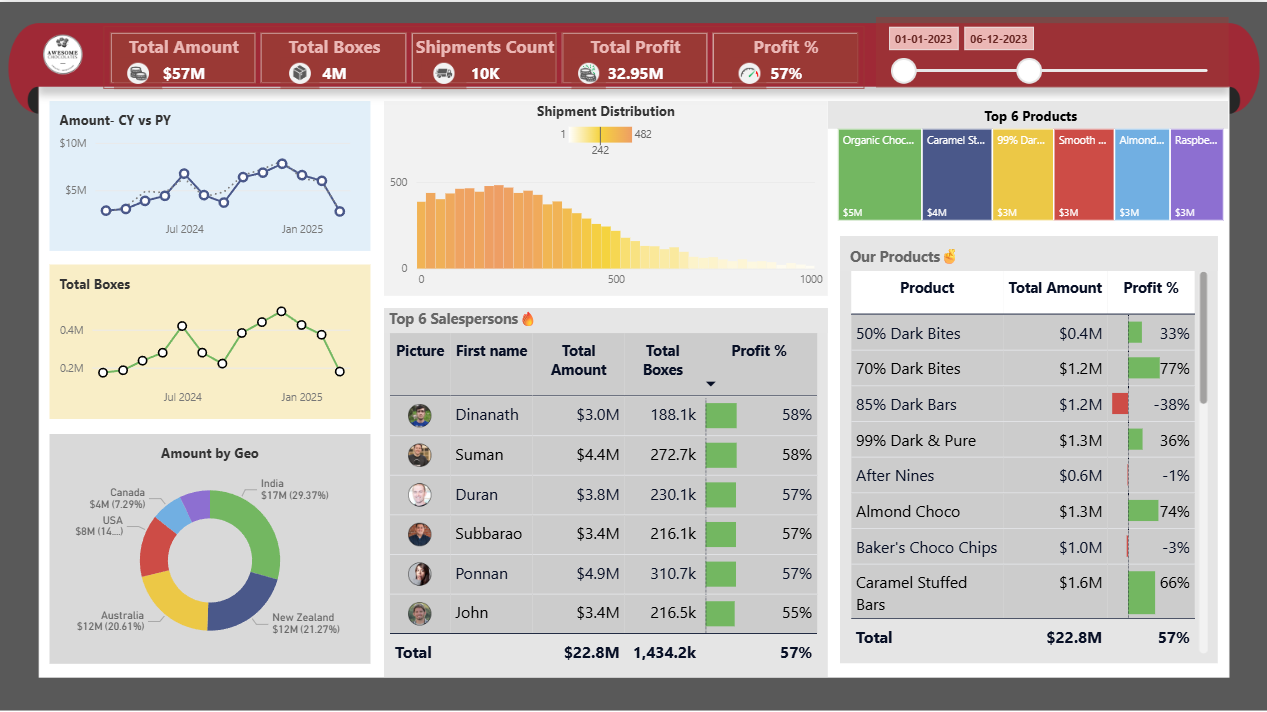

What the dashboard file says about the page in this screenshot:
{"tool":"powerbi","page":{"name":"Page 8","canvas":[1280,720],"ordinal":7},"visuals":[{"type":"lineChart","title":"Amount- CY vs PY","fields":{"Y":["shipments.Total Amount","shipments.Total Amount(last year)"],"Category":["calendar.Start of Month"]},"box":[50,99.9,324,151.4],"z":0},{"type":"lineChart","title":"Total Boxes","fields":{"Category":["calendar.Start of Month"],"Y":["shipments.Total Boxes"]},"box":[50,265,324,156],"z":1000},{"type":"donutChart","title":"Amount by Geo","fields":{"Category":["locations.Geo"],"Y":["shipments.Total Amount"]},"box":[50,436.1,324,231.7],"z":2000},{"type":"clusteredColumnChart","title":"Shipment Distribution","fields":{"Y":["shipments.Shipments Count"],"Category":["shipments.Boxes (bins)"]},"box":[387.6,99.9,448.2,196.8],"z":3000},{"type":"tableEx","title":"Top 6 Salespersons🔥","fields":{"Values":["people.Picture","people.First name","shipments.Total Amount","shipments.Total Boxes","shipments.Profit %"]},"box":[387.6,308.9,448.2,372.5],"z":4000},{"type":"treemap","title":"Top 6 Products","fields":{"Group":["products.Product"],"Values":["shipments.Total Amount"]},"box":[835.8,99.9,404.3,125.7],"z":5000},{"type":"shape","box":[1088.7,636,151.4,45.4],"z":6000},{"type":"tableEx","title":"Our Products🤞","fields":{"Values":["products.Product","shipments.Total Amount","shipments.Profit %"]},"box":[848,236.2,381.6,431.5],"z":7000},{"type":"cardVisual","fields":{"Data":["shipments.Total Amount","shipments.Total Boxes","shipments.Shipments Count","shipments.Total Profit","shipments.Profit %"]},"box":[104.5,24.2,767.7,63.6],"z":8000},{"type":"image","box":[283.2,56,39.4,31.8],"z":9000},{"type":"image","box":[115.1,56,48.5,31.8],"z":10000},{"type":"image","box":[425.5,56,45.4,31.8],"z":11000},{"type":"image","box":[576.9,56,34.8,31.8],"z":12000},{"type":"image","box":[738.9,56,34.8,31.8],"z":13000},{"type":"slicer","fields":{"Values":["calendar.cal_date"]},"box":[884.3,15.1,355.8,71.2],"z":14000}]}

Visuals, with their boxes in screenshot pixels (x1, y1, x2, y2), scaled from the page's 1280x720 canvas onto the 1267x712 screenshot:
"Amount- CY vs PY" lineChart: crop(49, 99, 370, 249)
"Total Boxes" lineChart: crop(49, 262, 370, 416)
"Amount by Geo" donutChart: crop(49, 431, 370, 660)
"Shipment Distribution" clusteredColumnChart: crop(384, 99, 827, 293)
"Top 6 Salespersons🔥" tableEx: crop(384, 305, 827, 674)
"Top 6 Products" treemap: crop(827, 99, 1228, 223)
shape: crop(1078, 629, 1228, 674)
"Our Products🤞" tableEx: crop(839, 234, 1217, 660)
cardVisual - shipments.Total Amount x shipments.Total Boxes: crop(103, 24, 863, 87)
image: crop(280, 55, 319, 87)
image: crop(114, 55, 162, 87)
image: crop(421, 55, 466, 87)
image: crop(571, 55, 605, 87)
image: crop(731, 55, 766, 87)
slicer - calendar.cal_date: crop(875, 15, 1228, 85)
